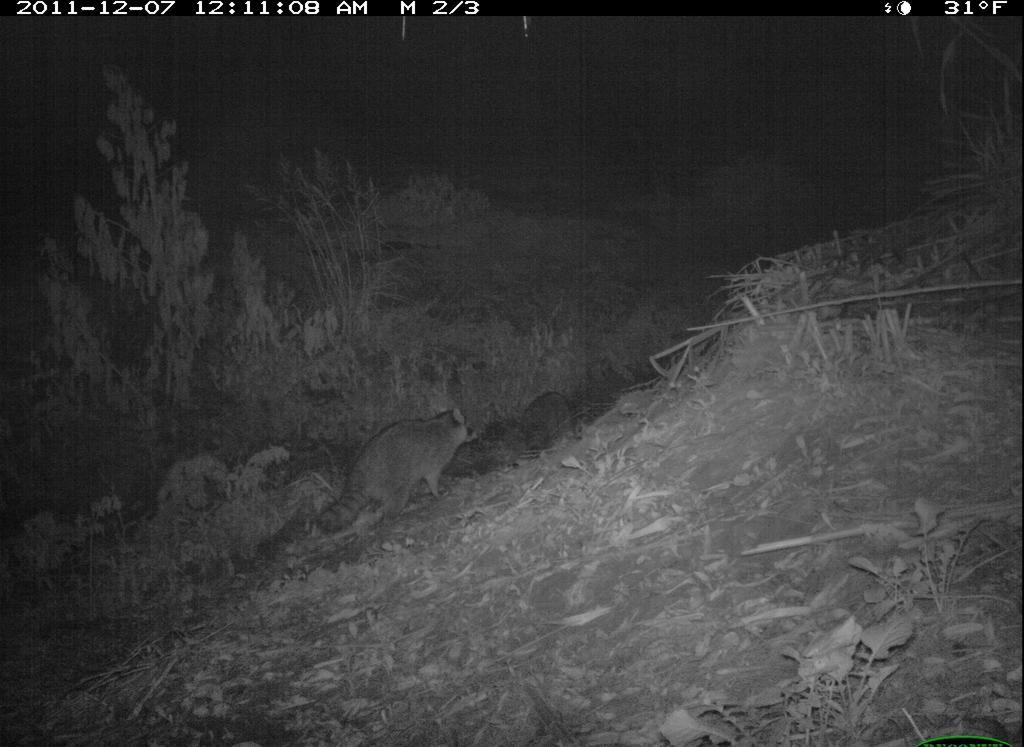raccoon: (309, 402, 484, 541)
